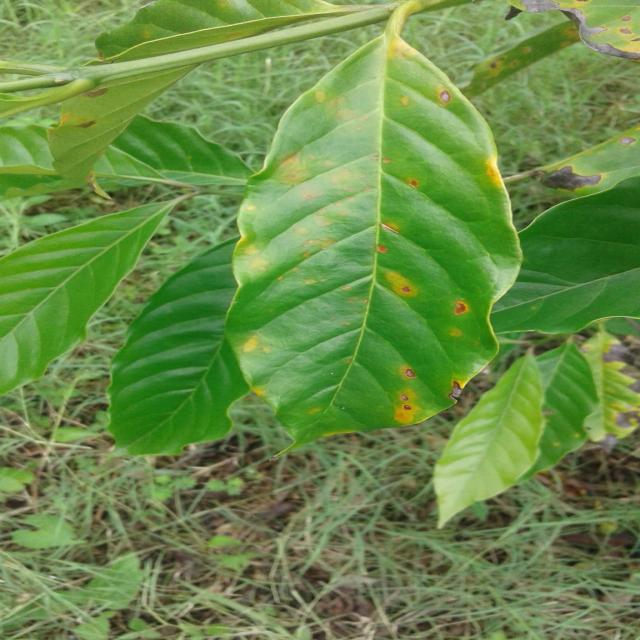Enfermedad-Roya: (228, 25, 524, 453)
